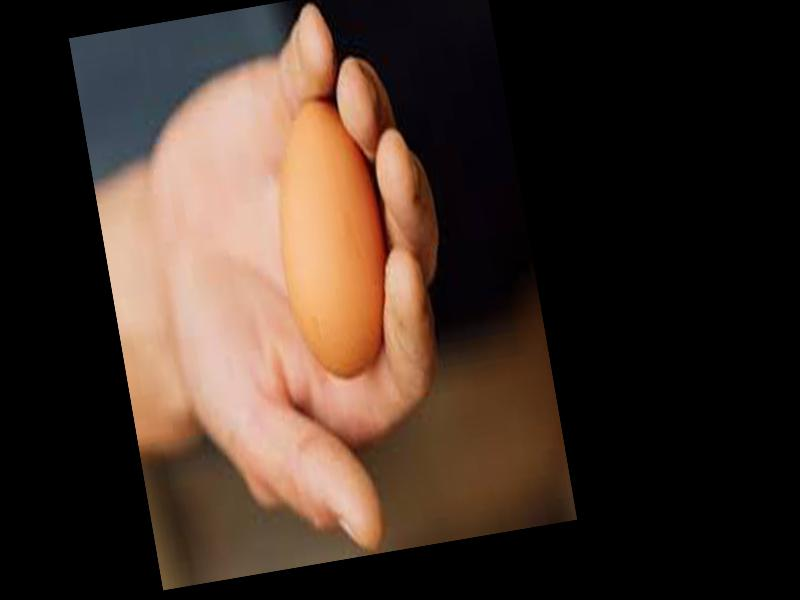Eggs: (257, 91, 402, 382)
